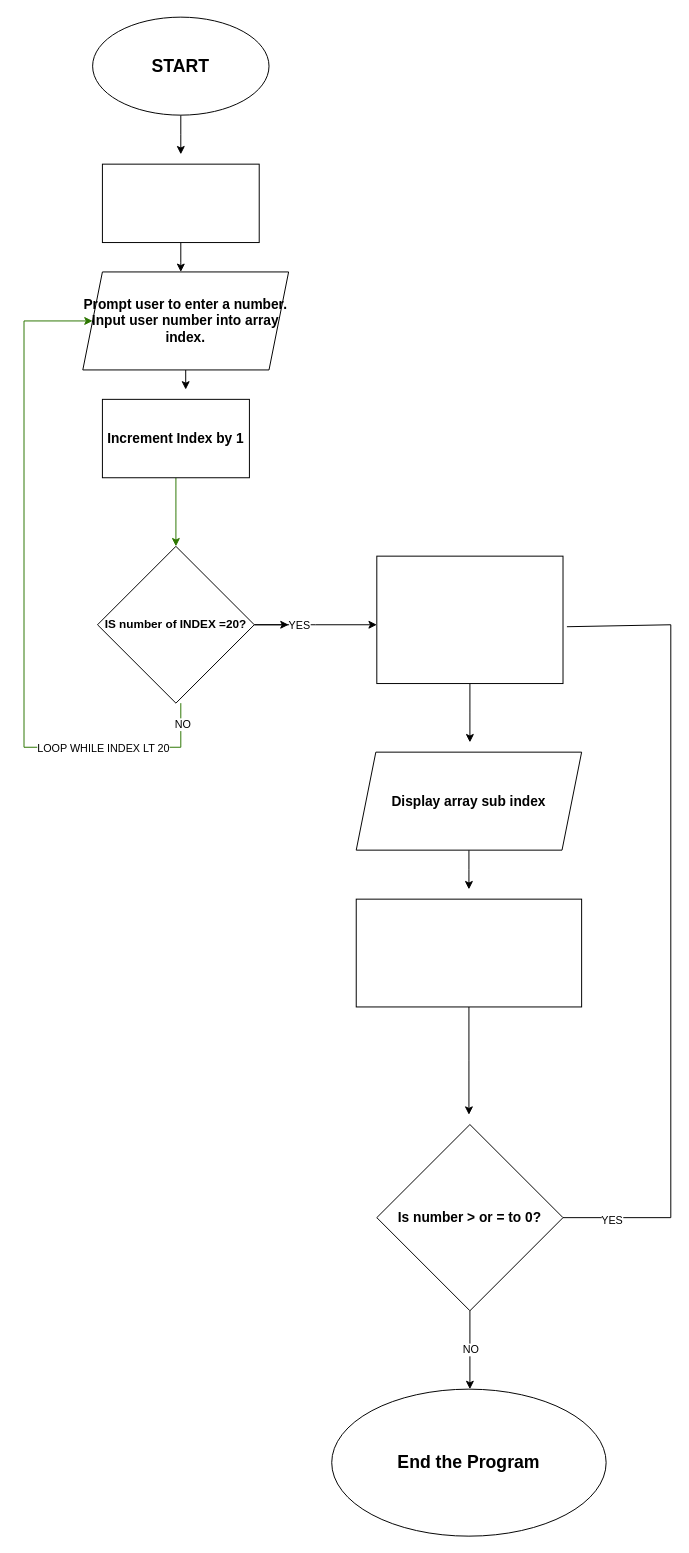
Image size: 689x1553. Some labels were removed from this diagram. The centre of each missing label's shape, as x and y in pixels:
"Declare an ARRAY of 20 numbers. Set index variable to 0." belongs at pixel 180 203.
"Decrement index by 1" belongs at pixel 468 952.
"Set Index variable to 19" belongs at pixel 469 619.
